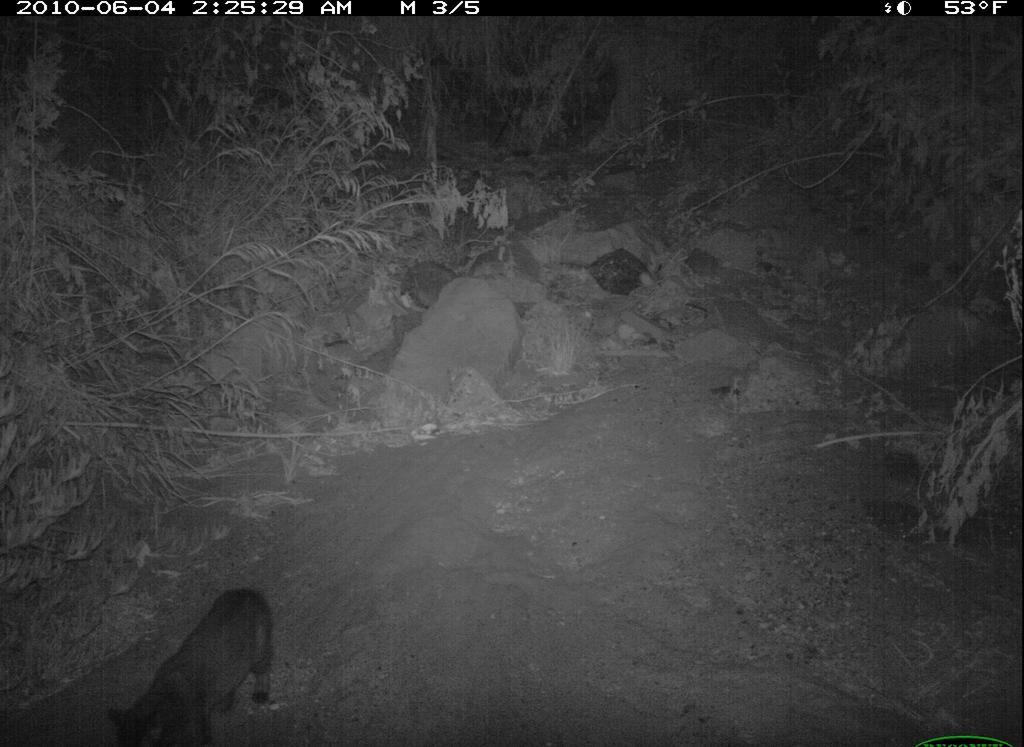cat: (68, 561, 269, 745)
